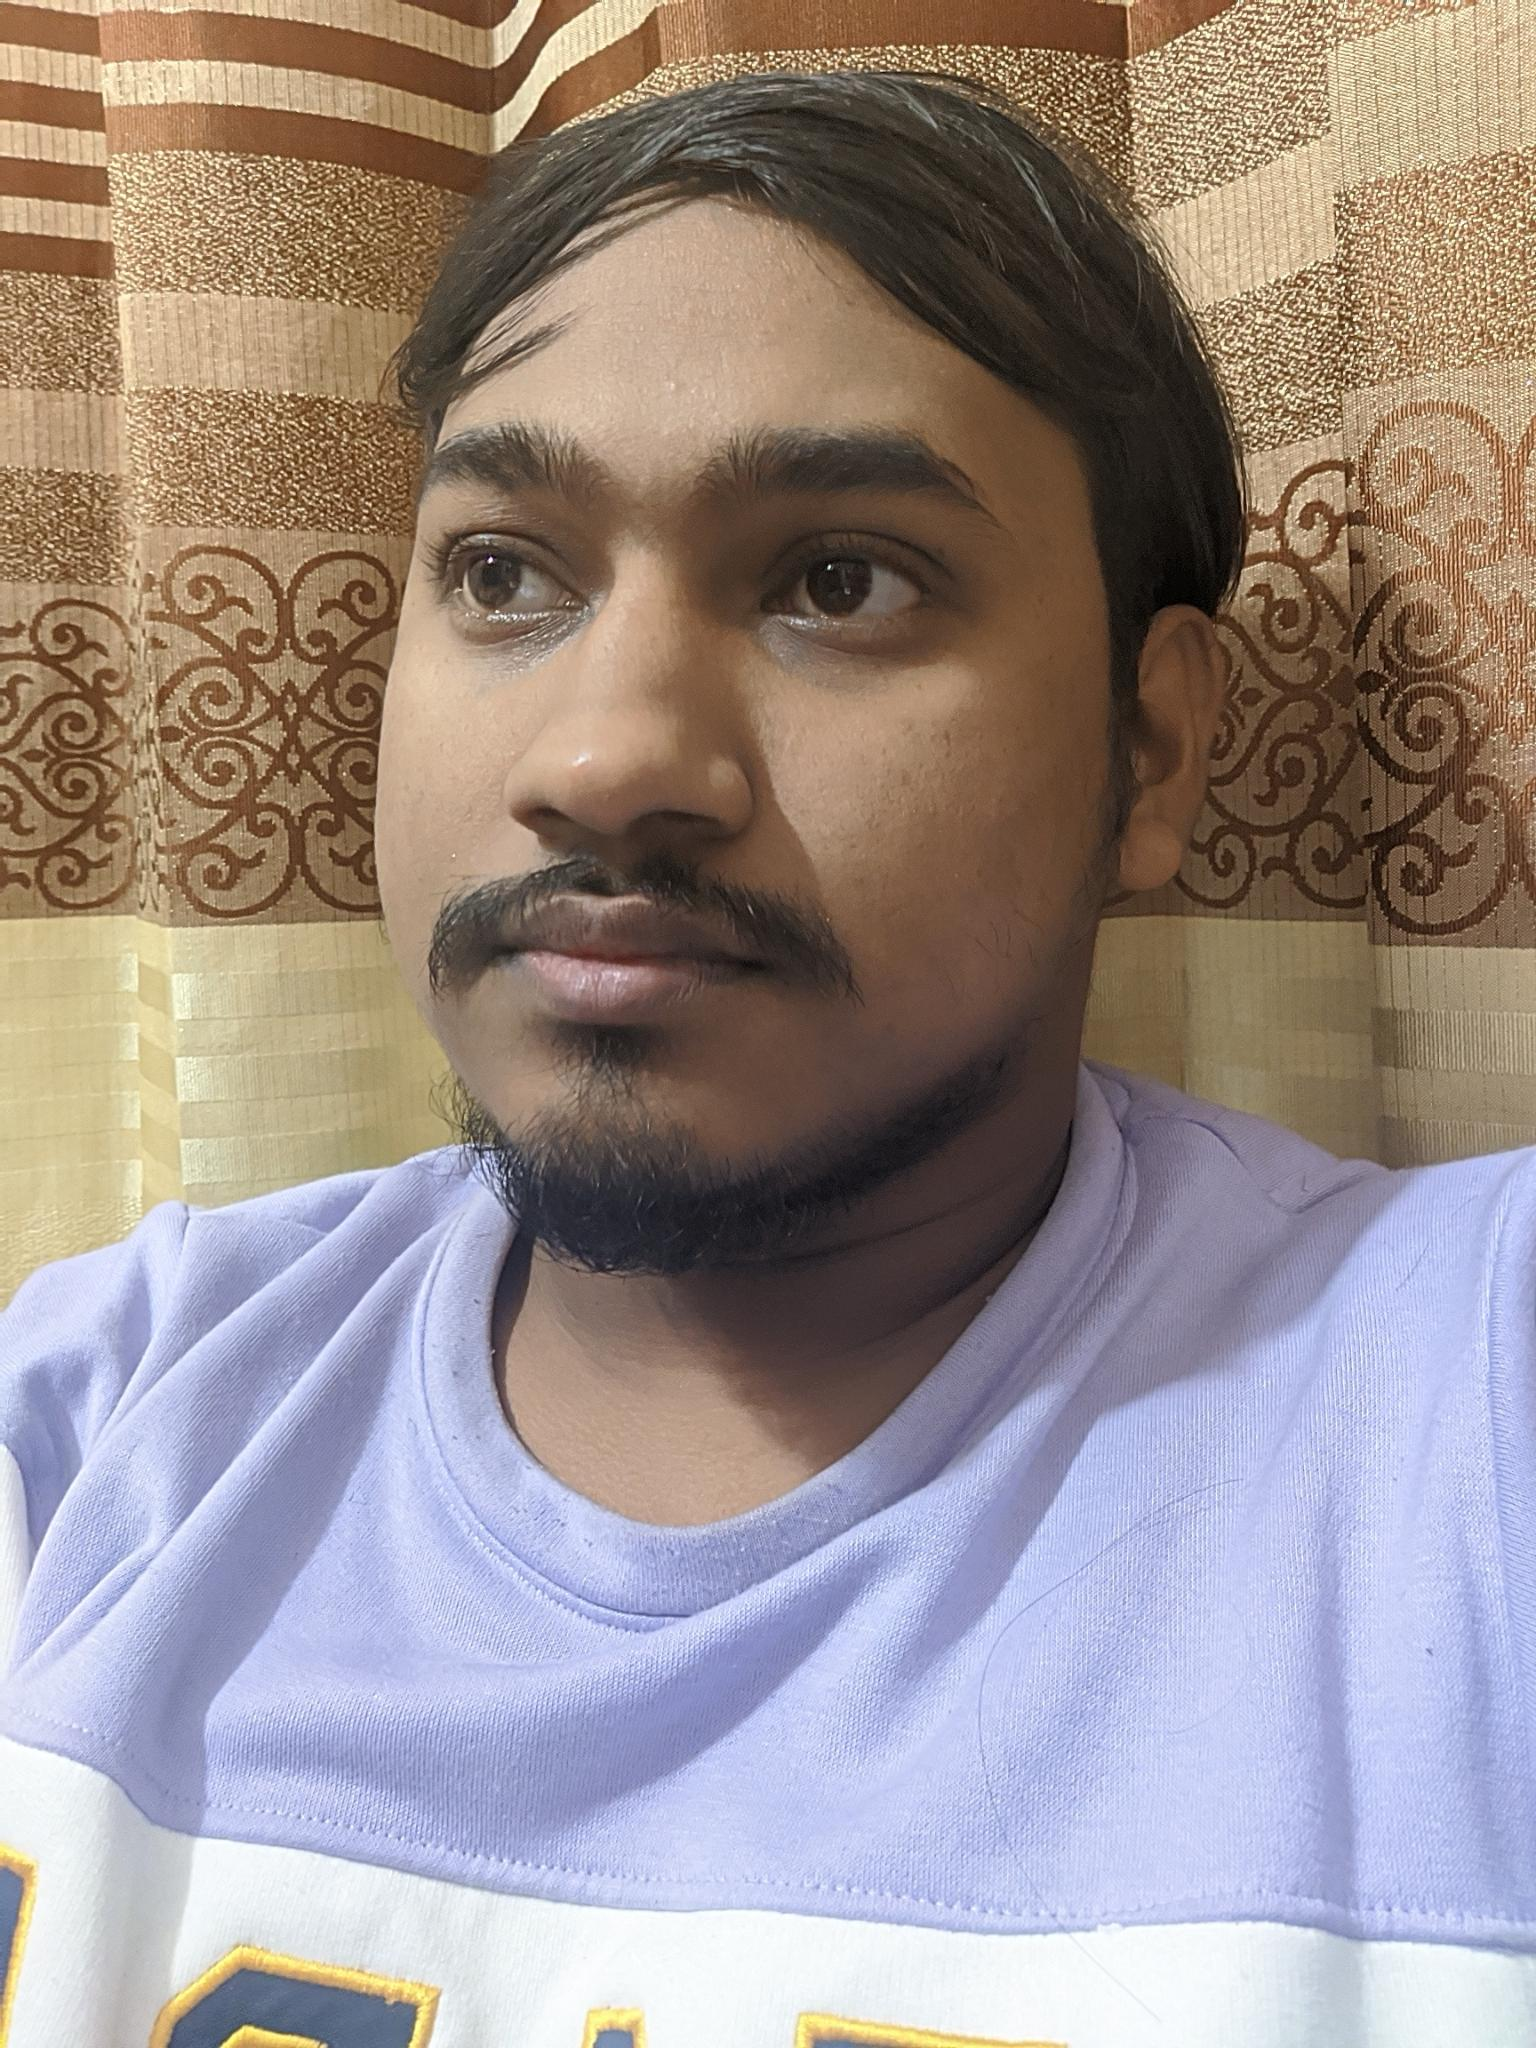Neutral: (352, 311, 1076, 1240)
